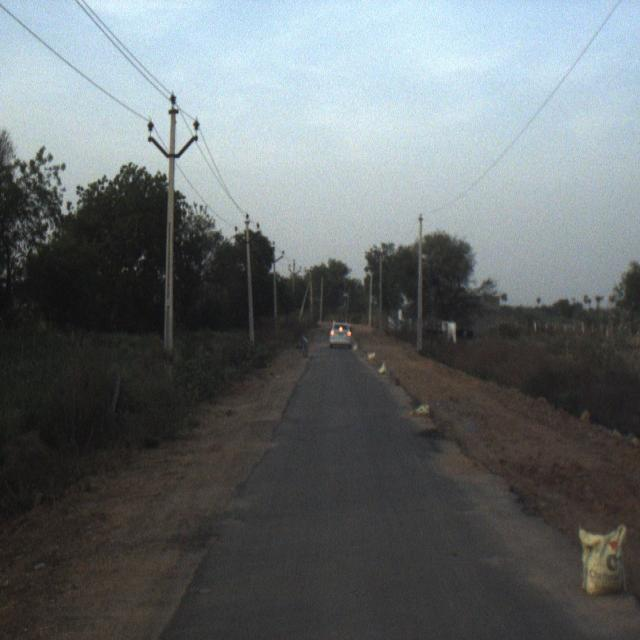pothole: (412, 420, 482, 518), (169, 526, 230, 618)
